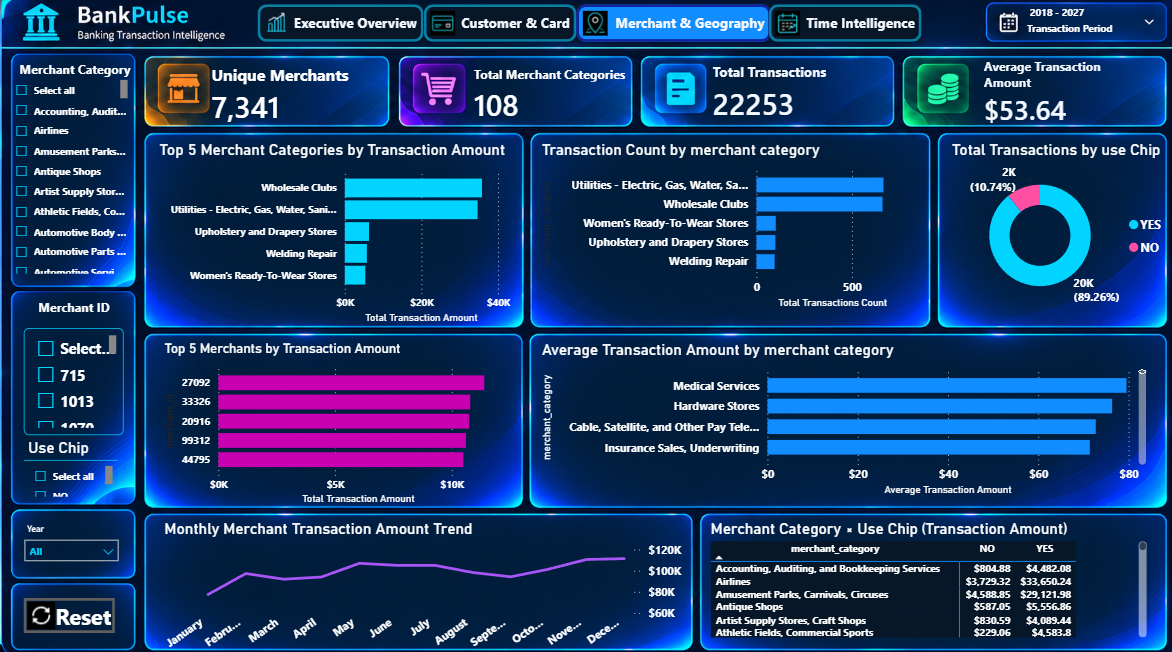

The dashboard page shown, as its layout file describes it:
{"tool":"powerbi","page":{"name":"Mercent & Geography","canvas":[1280,720],"ordinal":2},"visuals":[{"type":"actionButton","box":[296.8,13.3,181,41],"z":0},{"type":"actionButton","box":[477.8,13.3,166.5,41],"z":1000},{"type":"actionButton","box":[644.2,13.3,212.3,41],"z":2000},{"type":"actionButton","box":[856.6,13.3,166.5,41],"z":3000},{"type":"textbox","box":[1114.2,0,140,54.9],"z":4000},{"type":"cardVisual","fields":{"Data":["Measures (2).Total Merchant Categories"]},"box":[487.1,54.9,236,101.5],"z":5000},{"type":"cardVisual","fields":{"Data":["Measures (2).Unique Merchants Display"]},"box":[201.5,48.3,253.9,115.3],"z":6000},{"type":"cardVisual","fields":{"Data":["Measures (2).Total Transactions"]},"box":[748,42.2,217.2,121.9],"z":7000},{"type":"cardVisual","title":"Average","fields":{"Data":["Measures (2).Average Transaction Amount"]},"box":[1043.6,42.2,236.5,121.9],"z":8000},{"type":"clusteredBarChart","title":"Top 5 Merchant Categories by Transaction Amount","fields":{"Category":["mcc_codes.merchant_category"],"Y":["Measures (2).Total Transaction Amount"]},"box":[168.9,155.6,392.1,203.9],"z":9000},{"type":"clusteredBarChart","title":"Transaction Count by merchant category","fields":{"Category":["mcc_codes.merchant_category"],"Y":["Measures (2).Total Transactions Count"]},"box":[585.9,155.1,421.3,188],"z":10000},{"type":"donutChart","title":"Total Transactions by use Chip","fields":{"Category":["cards_data.has_chip"],"Y":["Measures (2).Total Transactions"]},"box":[1031.9,155.1,247,188],"z":11000},{"type":"clusteredBarChart","title":"Top 5 Merchants by Transaction Amount","fields":{"Category":["transactions_data.merchant_id"],"Y":["Measures (2).Total Transaction Amount"]},"box":[174.3,373.2,387,183.9],"z":12000},{"type":"clusteredBarChart","title":"Average Transaction Amount by merchant category","fields":{"Category":["mcc_codes.merchant_category"],"Y":["Measures (2).Average Transaction Amount"]},"box":[585.9,373.2,668.3,174.3],"z":13000},{"type":"lineChart","title":"Monthly Merchant Transaction Amount Trend","fields":{"Category":["Calendar.Date.Variation.Date Hierarchy.Month"],"Y2":["Measures (2).Total Transaction Amount"]},"box":[174.3,568.1,573.6,152.3],"z":14000},{"type":"pivotTable","title":"Merchant Category × Use Chip (Transaction Amount)","fields":{"Columns":["cards_data.has_chip"],"Rows":["mcc_codes.merchant_category"],"Values":["Measures (2).Total Transaction Amount"]},"box":[769.5,568,484.9,133.5],"z":15000},{"type":"slicer","fields":{"Values":["mcc_codes.merchant_category"]},"box":[5.4,84.4,138.9,220.6],"z":16000},{"type":"slicer","fields":{"Values":["transactions_data.merchant_id"]},"box":[25.9,359.6,109,117.1],"z":17000},{"type":"slicer","title":"Use Chip","fields":{"Values":["cards_data.has_chip"]},"box":[25.9,479.4,102.1,68.1],"z":18000},{"type":"slicer","fields":{"Values":["Calendar.Year"]},"box":[16.3,568,122.6,66.7],"z":19000},{"type":"actionButton","box":[25.9,653.8,99.4,38.1],"z":20000},{"type":"textbox","box":[16.3,64,152.5,39.5],"z":21000},{"type":"textbox","box":[36.8,322.8,91.3,36.8],"z":22000}]}

Visuals, with their boxes in screenshot pixels (x1, y1, x2, y2), scaled from the page's 1280x720 canvas onto the 1172x652 screenshot:
actionButton: (272,12,437,49)
actionButton: (437,12,590,49)
actionButton: (590,12,784,49)
actionButton: (784,12,937,49)
textbox: (1020,0,1148,50)
cardVisual - Measures (2).Total Merchant Categories: (446,50,662,142)
cardVisual - Measures (2).Unique Merchants Display: (184,44,417,148)
cardVisual - Measures (2).Total Transactions: (685,38,884,149)
"Average" cardVisual: (956,38,1171,149)
"Top 5 Merchant Categories by Transaction Amount" clusteredBarChart: (155,141,514,326)
"Transaction Count by merchant category" clusteredBarChart: (536,140,922,311)
"Total Transactions by use Chip" donutChart: (945,140,1171,311)
"Top 5 Merchants by Transaction Amount" clusteredBarChart: (160,338,514,504)
"Average Transaction Amount by merchant category" clusteredBarChart: (536,338,1148,496)
"Monthly Merchant Transaction Amount Trend" lineChart: (160,514,685,651)
"Merchant Category × Use Chip (Transaction Amount)" pivotTable: (705,514,1149,635)
slicer - mcc_codes.merchant_category: (5,76,132,276)
slicer - transactions_data.merchant_id: (24,326,124,432)
"Use Chip" slicer: (24,434,117,496)
slicer - Calendar.Year: (15,514,127,575)
actionButton: (24,592,115,627)
textbox: (15,58,155,94)
textbox: (34,292,117,326)
